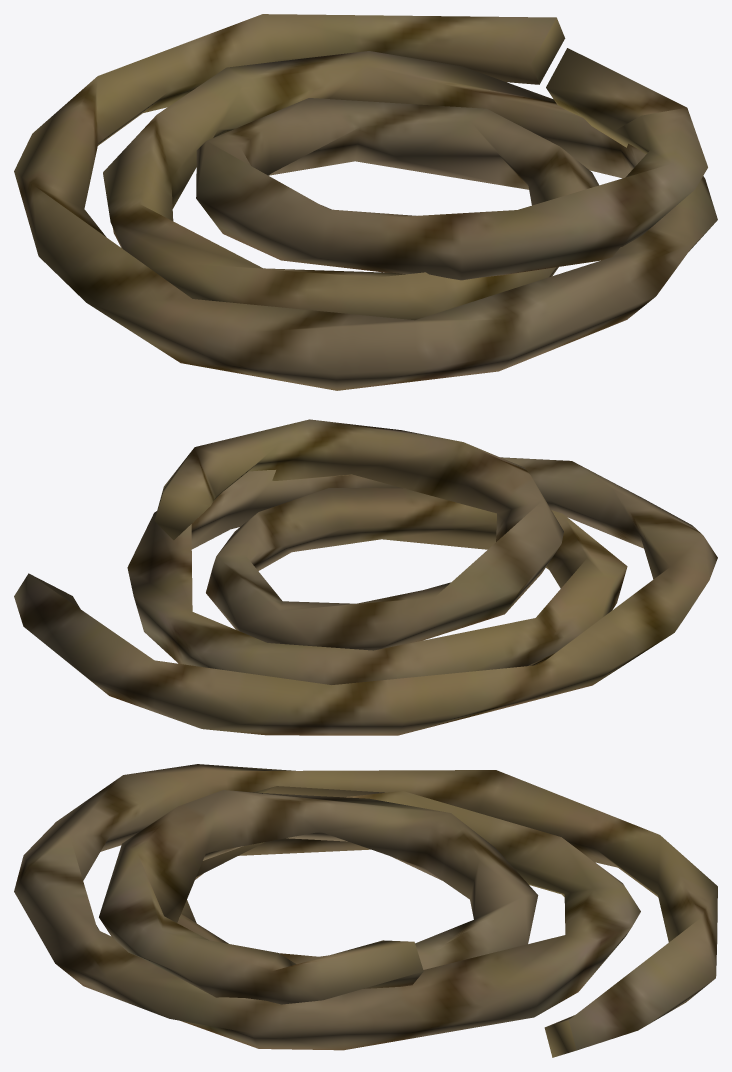
File: Rope_1.medium.gltf
3 views of the same model, one above another, from view 1: azimuth 30°, elevation 25°; view 2: azimuth 150°, elevation 25°; view 3: azimuth 270°, elevation 25° (orthographic). The views are drawn at different scales.
Visible parts, largest first — view 1: Rope_1; view 2: Rope_1; view 3: Rope_1.
Boxes of the visible parts, x1=… form: Rope_1: x1=14, y1=14, x2=717, y2=390; Rope_1: x1=14, y1=419, x2=717, y2=735; Rope_1: x1=14, y1=764, x2=717, y2=1057.
Size of the model in its own units: 0.5574 by 0.0922 by 0.5938.
Materials: 1 (1 with a texture image).
